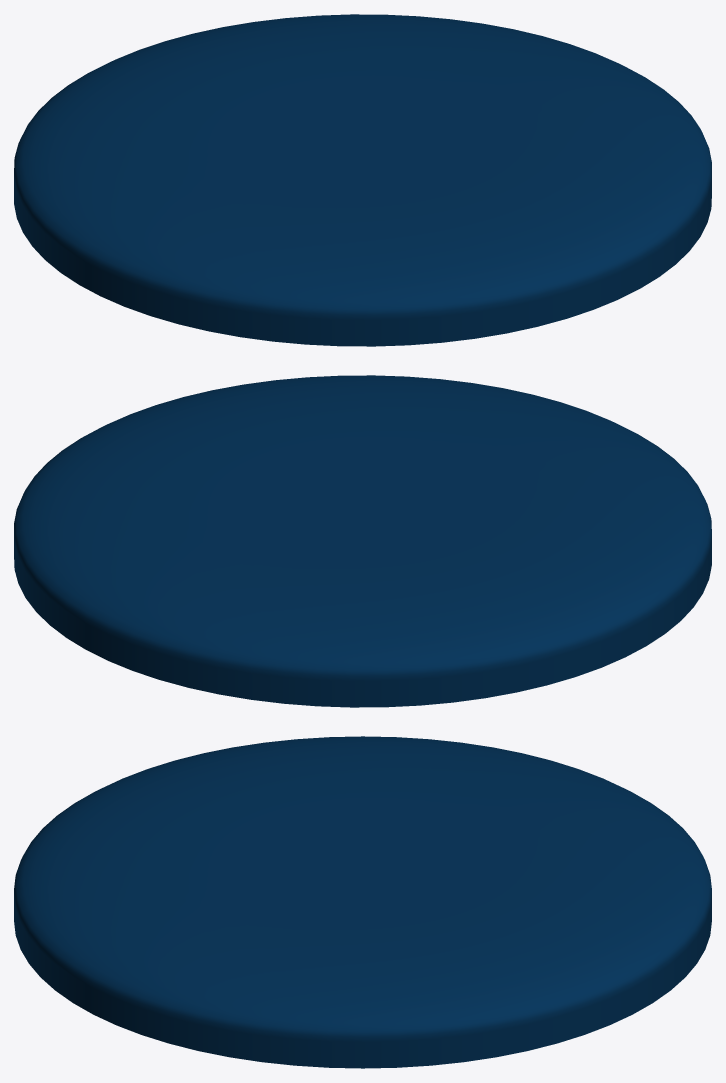
File: podium-glass.glb
3 renders of one model, top to bottom at view 1: azimuth 30°, elevation 25°; view 2: azimuth 150°, elevation 25°; view 3: azimuth 270°, elevation 25°, orthographic.
Parts seen in each view (by area): view 1: Podium new; view 2: Podium new; view 3: Podium new.
Part boxes in pixels (x1,y1,x2,y2): Podium new: (14, 14, 711, 346); Podium new: (14, 375, 711, 707); Podium new: (14, 736, 711, 1068).
Bounding box in the file's own units: 3.96 × 0.3749 × 3.96.
